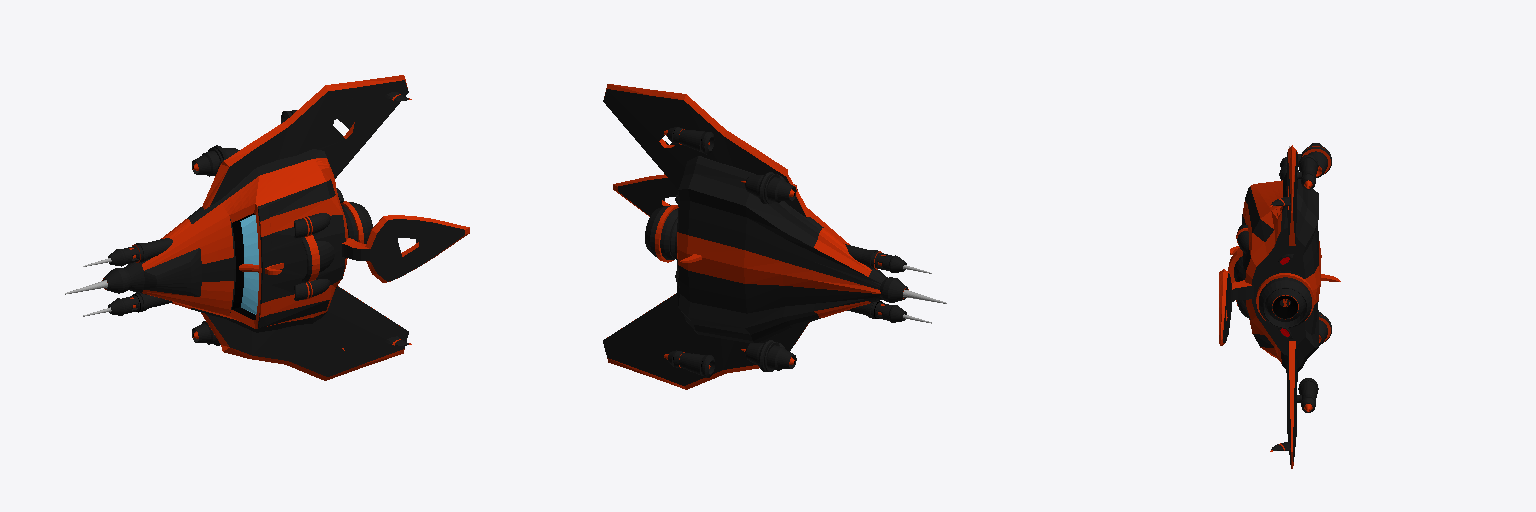
Rendered from spaceship-5.obj.
3 renders of one model, left to right at view 1: azimuth 30°, elevation 25°; view 2: azimuth 150°, elevation 25°; view 3: azimuth 270°, elevation 25°, orthographic.
Visible parts, largest first — view 1: Cube.003_Cube.001; view 2: Cube.003_Cube.001; view 3: Cube.003_Cube.001.
Boxes of the visible parts, box(x1,y1,x2,y2) form: Cube.003_Cube.001: box(65, 75, 469, 380); Cube.003_Cube.001: box(603, 84, 946, 389); Cube.003_Cube.001: box(1219, 143, 1340, 468).
Size of the model in its own units: 7.12 by 5.45 by 2.04.